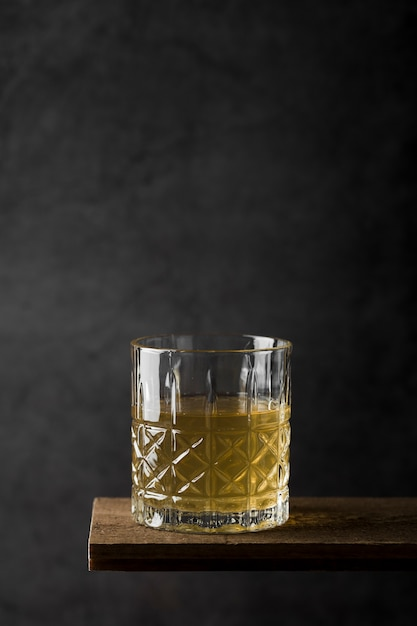alcohol: (124, 326, 296, 536)
